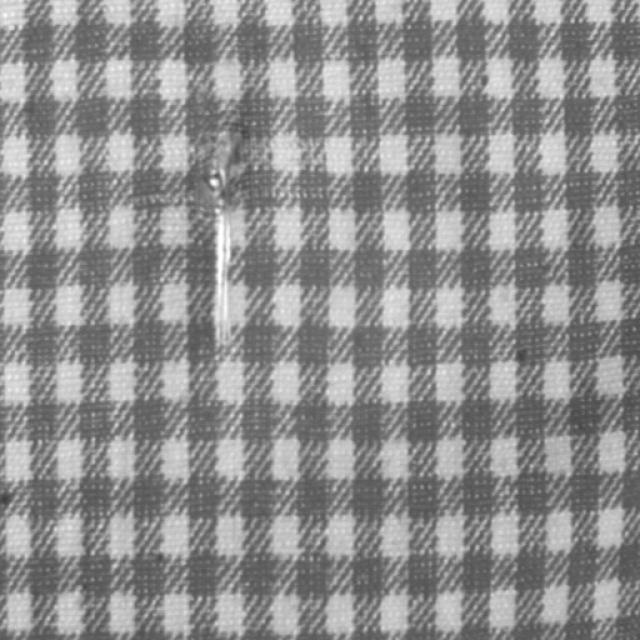Hole-Defect: (192, 111, 256, 347)
